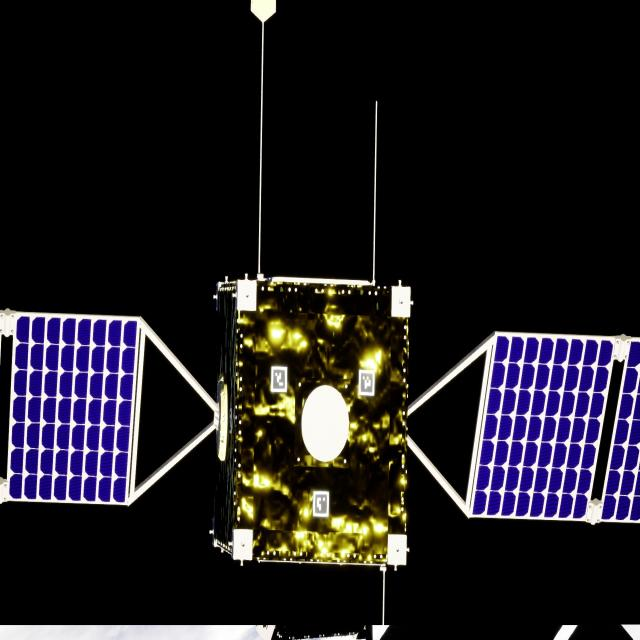medium_debris: (0, 279, 640, 567)
